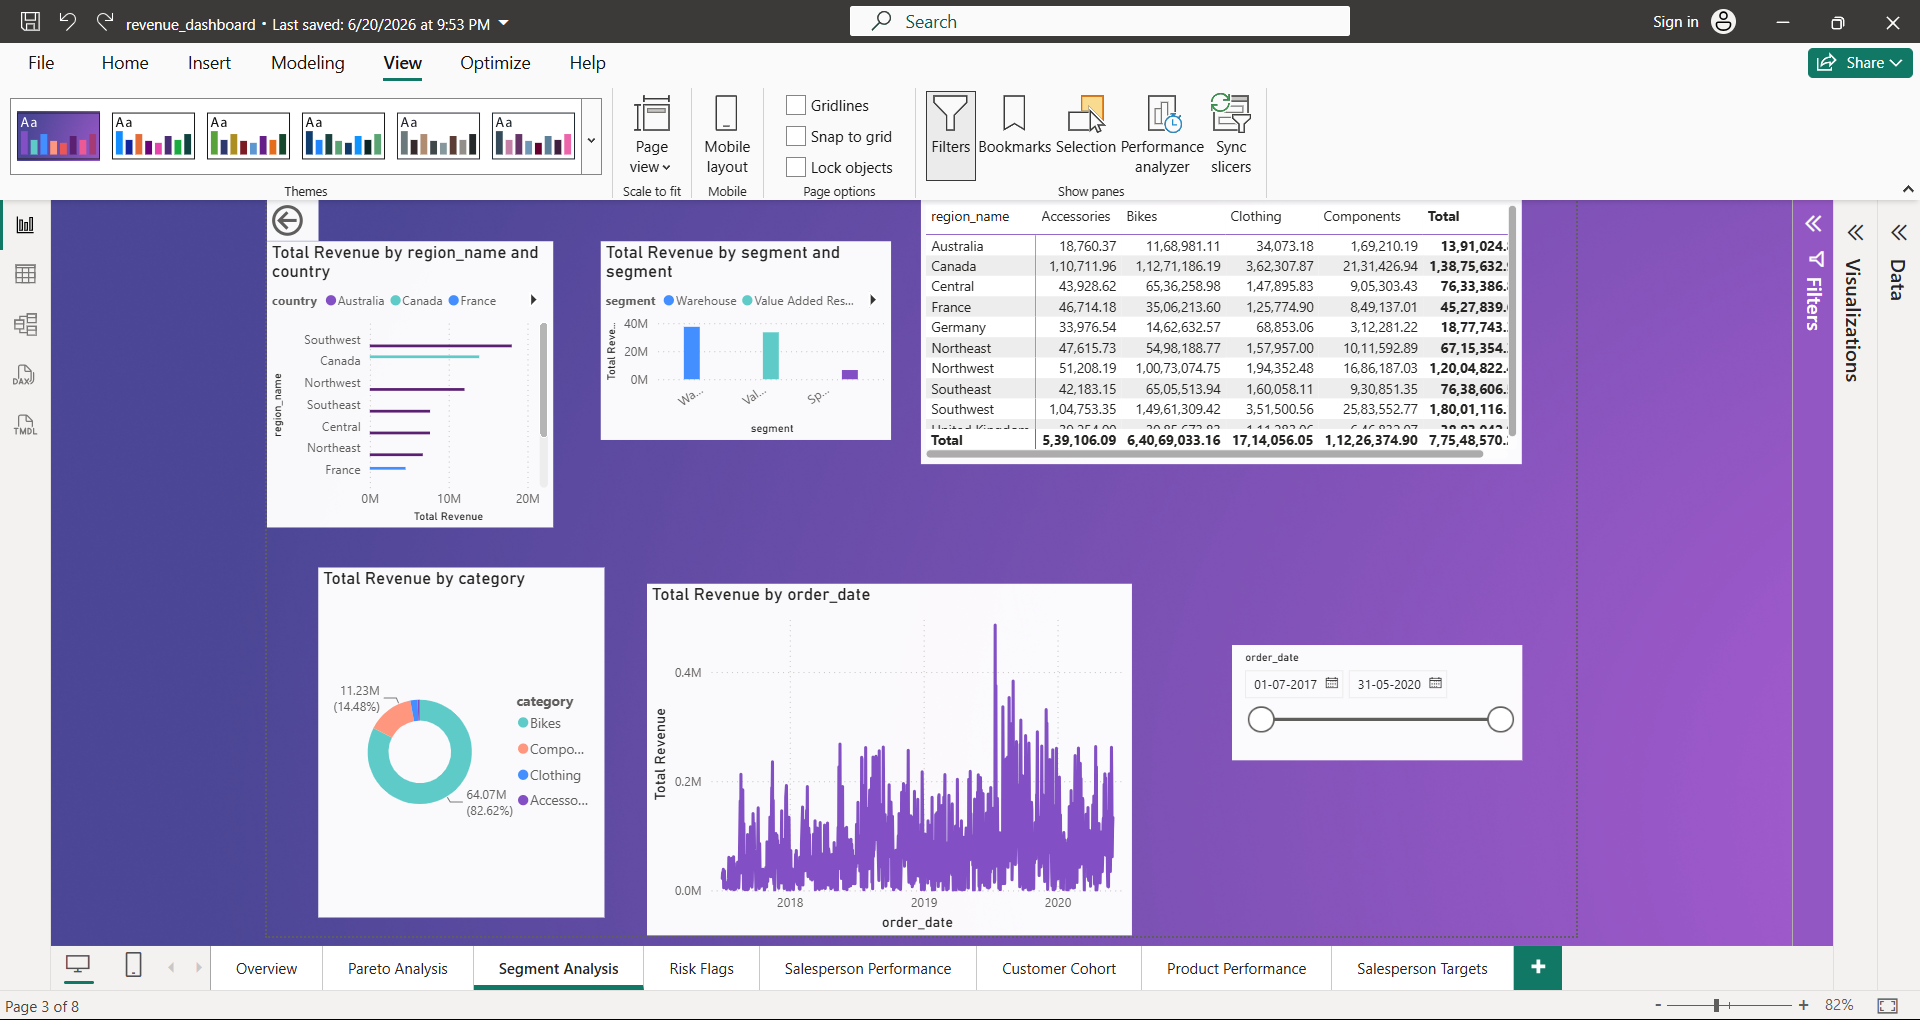

The page's visual inventory and layout, read from the dashboard file:
{"tool":"powerbi","page":{"name":"Segment Analysis","canvas":[1280,720],"ordinal":2},"visuals":[{"type":"clusteredBarChart","fields":{"Category":["regions.region_name"],"Y":["customers.Total Revenue"],"Series":["regions.country"]},"box":[0,40.4,280,280],"z":0},{"type":"donutChart","fields":{"Category":["products.category"],"Y":["customers.Total Revenue"]},"box":[50,360,280,342],"z":1000},{"type":"clusteredColumnChart","fields":{"Y":["customers.Total Revenue"],"Series":["customers.segment"],"Category":["customers.segment"]},"box":[326,40,284,194],"z":2000},{"type":"lineChart","fields":{"Y":["customers.Total Revenue"],"Category":["sales.order_date.Variation.Date Hierarchy.Month"]},"box":[372,376,474,344],"z":3000},{"type":"actionButton","box":[0,0,50,40],"z":4000},{"type":"pivotTable","fields":{"Rows":["regions.region_name"],"Columns":["products.category"],"Values":["customers.Total Revenue"]},"box":[640,0,588,258],"z":5000},{"type":"slicer","fields":{"Values":["sales.order_date"]},"box":[944,435.3,283.7,112.5],"z":6000}]}

Visuals, with their boxes on the page's 1280x720 design canvas (x1, y1, x2, y2). These are canvas units, not pixel positions in the 1920x1020 screenshot, which may show the page scaled, cropped or inside an application window:
clusteredBarChart - regions.region_name x customers.Total Revenue: select_region(0, 40, 280, 320)
donutChart - products.category x customers.Total Revenue: select_region(50, 360, 330, 702)
clusteredColumnChart - customers.Total Revenue x customers.segment: select_region(326, 40, 610, 234)
lineChart - customers.Total Revenue x sales.order_date.Variation.Date Hierarchy.Month: select_region(372, 376, 846, 720)
actionButton: select_region(0, 0, 50, 40)
pivotTable - regions.region_name x products.category: select_region(640, 0, 1228, 258)
slicer - sales.order_date: select_region(944, 435, 1228, 548)
